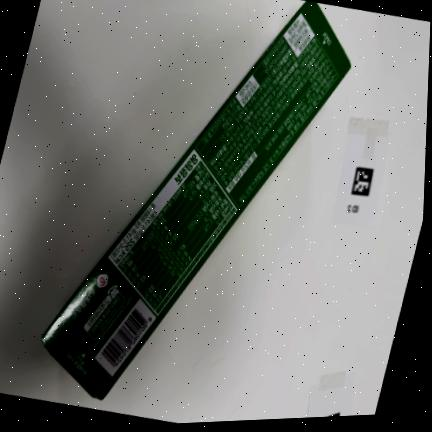cracker_vege: (42, 1, 350, 399)
